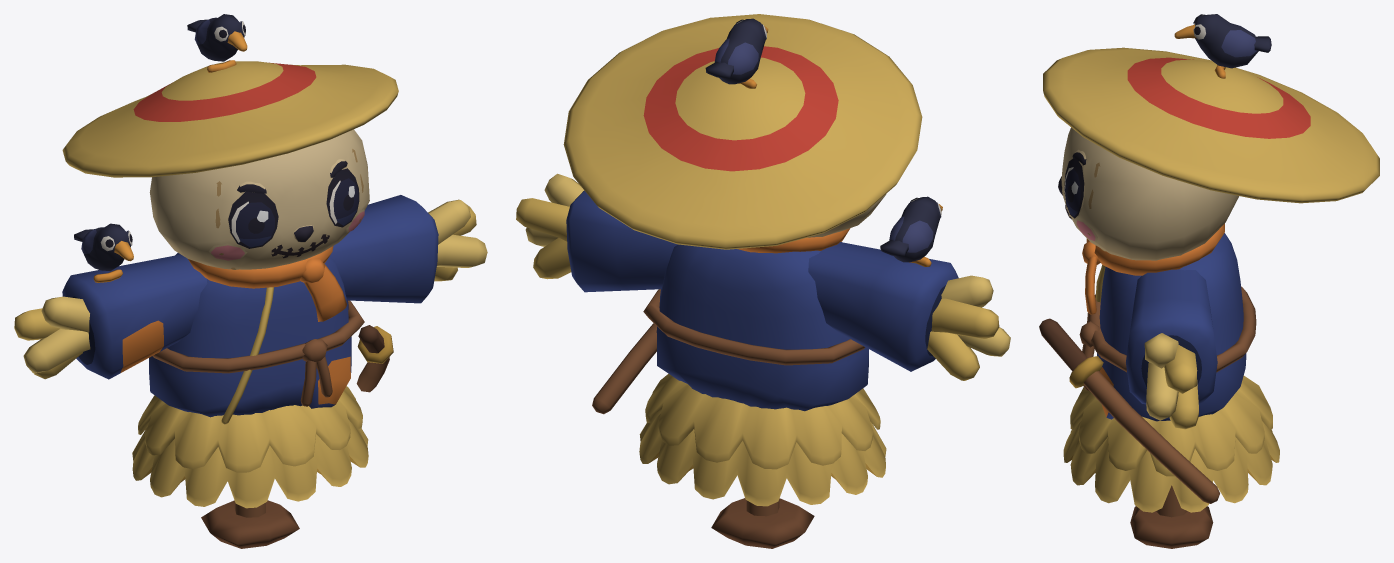
Rendered from kakashi.glb.
3 views of the same model, side by side, from view 1: azimuth 30°, elevation 25°; view 2: azimuth 150°, elevation 25°; view 3: azimuth 270°, elevation 25° (orthographic). The views are drawn at different scales.
Visible parts, largest first — view 1: body, crowA, crowB; view 2: body, crowA, crowB; view 3: body, crowB.
Part boxes in pixels (box(x1,y1,x2,y2)): body: box(14, 61, 487, 548); crowA: box(74, 223, 133, 282); crowB: box(187, 14, 247, 72); body: box(516, 14, 1010, 548); crowA: box(880, 196, 942, 266); crowB: box(705, 18, 768, 88); body: box(1039, 47, 1379, 548); crowB: box(1174, 14, 1271, 78).
Size of the model in its own units: 1.7 by 1.79 by 1.07.
